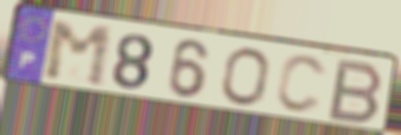6: (167, 38, 213, 100)
8: (112, 32, 156, 91)
B: (324, 57, 386, 126)
C: (273, 53, 330, 117)
M: (43, 19, 115, 91)
O: (220, 46, 271, 109)
